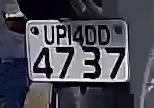1: (67, 23, 73, 45)
3: (81, 45, 103, 80)
4: (32, 47, 54, 79), (73, 26, 85, 45)
7: (104, 45, 126, 80), (54, 45, 75, 80)
D: (96, 24, 111, 46), (84, 24, 97, 45)
P: (56, 24, 67, 46)
U: (40, 24, 55, 47)
